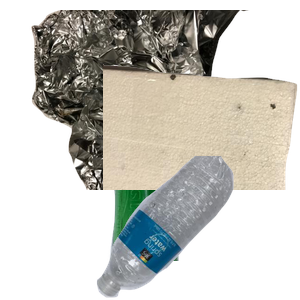glass: (107, 120, 278, 300)
metal: (29, 10, 269, 190)
plastic: (94, 156, 300, 300)
trash: (103, 62, 300, 242)
